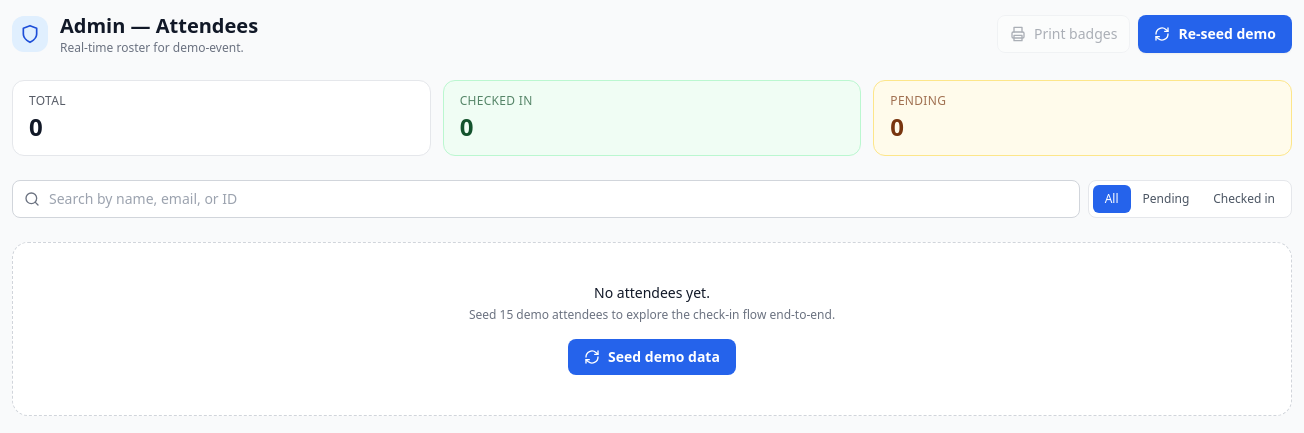
Test: <AdminPage /> › seeding › disables the re-seed button while seeding is in flight
The image size is (1304, 433).
Click the button "Seed demo data" at (652, 357), box [568,339,736,375]
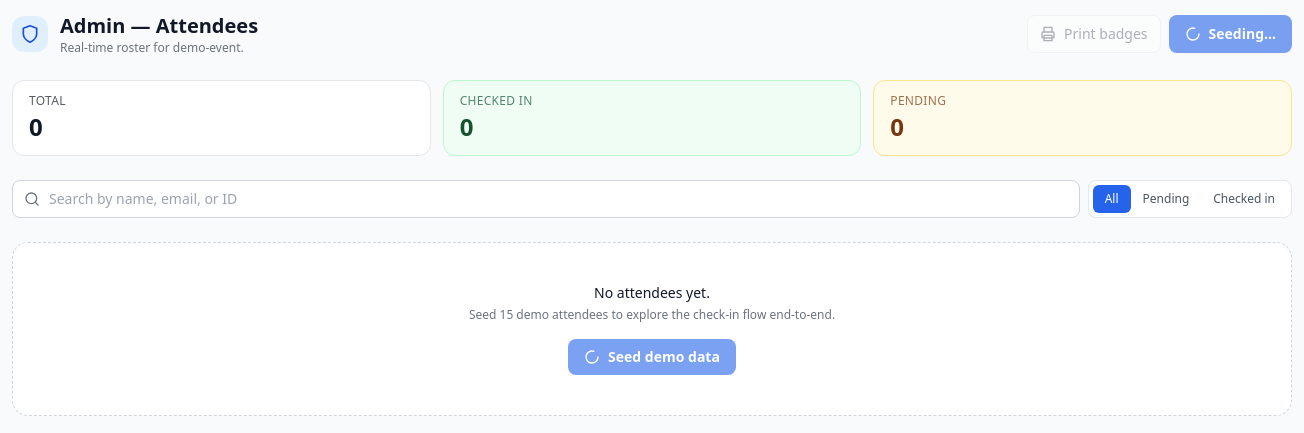
Result: the button "Seed demo data" is disabled at [568,339,736,375]
